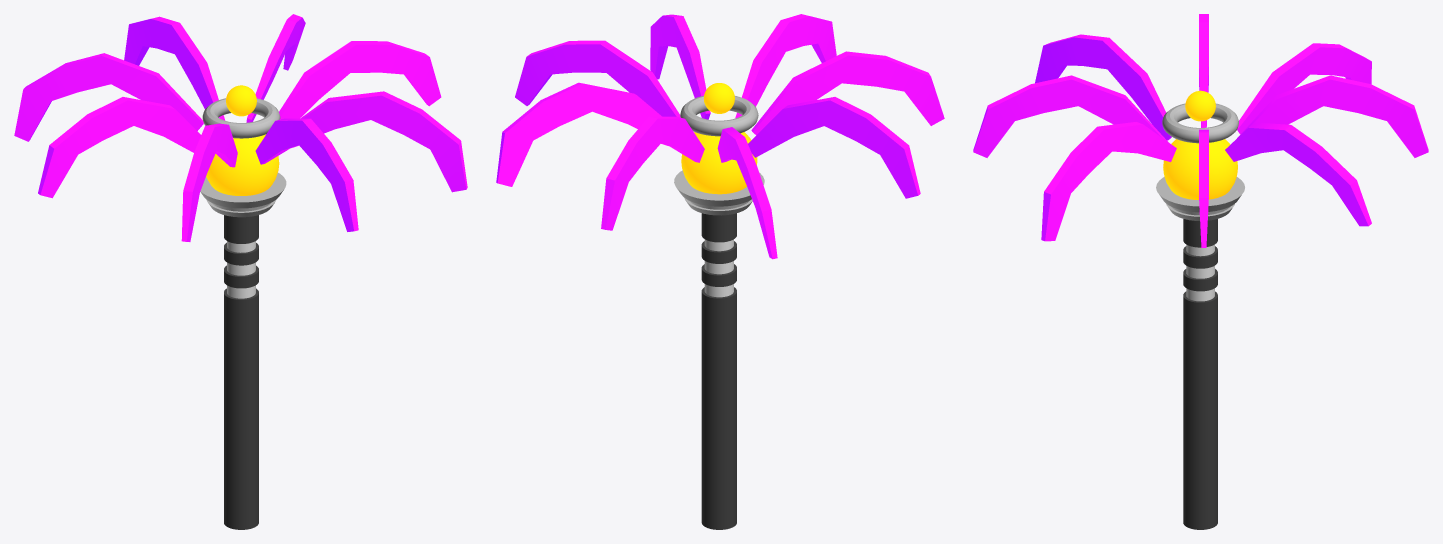
The model's file is neon tree 2.fbx.
The picture shows the model from 3 angles, left to right: view 1: azimuth 30°, elevation 25°; view 2: azimuth 150°, elevation 25°; view 3: azimuth 270°, elevation 25°; orthographic projection.
Visible parts, largest first — view 1: Cylinder, Cube.005, Cube.003, Cube.007, Cube.002, Cube.001, Cube, Cube.004, Cube.006; view 2: Cylinder, Cube.003, Cube.004, Cube.006, Cube.002, Cube, Cube.001, Cube.007, Cube.005; view 3: Cylinder, Cube.001, Cube, Cube.007, Cube.004, Cube.006, Cube.005, Cube.002, Cube.003.
Boxes of the visible parts, bbox=[...] form: Cylinder: bbox=[200, 85, 286, 529]; Cube.005: bbox=[14, 53, 203, 141]; Cube.003: bbox=[38, 97, 201, 198]; Cube.007: bbox=[300, 91, 467, 192]; Cube.002: bbox=[279, 41, 441, 119]; Cube.001: bbox=[255, 118, 358, 231]; Cube: bbox=[124, 16, 225, 120]; Cube.004: bbox=[181, 123, 237, 241]; Cube.006: bbox=[246, 14, 305, 122]; Cylinder: bbox=[674, 83, 764, 529]; Cube.003: bbox=[748, 97, 920, 198]; Cube.004: bbox=[751, 51, 944, 135]; Cube.006: bbox=[496, 82, 661, 186]; Cube.002: bbox=[515, 40, 680, 117]; Cube: bbox=[601, 116, 704, 230]; Cube.001: bbox=[735, 14, 836, 118]; Cube.007: bbox=[650, 14, 710, 119]; Cube.005: bbox=[717, 127, 777, 259]; Cylinder: bbox=[1156, 90, 1244, 529]; Cube.001: bbox=[973, 75, 1167, 157]; Cube: bbox=[1237, 75, 1428, 157]; Cube.007: bbox=[1041, 122, 1176, 241]; Cube.004: bbox=[1035, 34, 1171, 140]; Cube.006: bbox=[1225, 122, 1371, 226]; Cube.005: bbox=[1237, 43, 1371, 134]; Cube.002: bbox=[1199, 129, 1208, 247]; Cube.003: bbox=[1199, 14, 1208, 127].
Size of the model in its own units: 1487 by 1596 by 1480.
